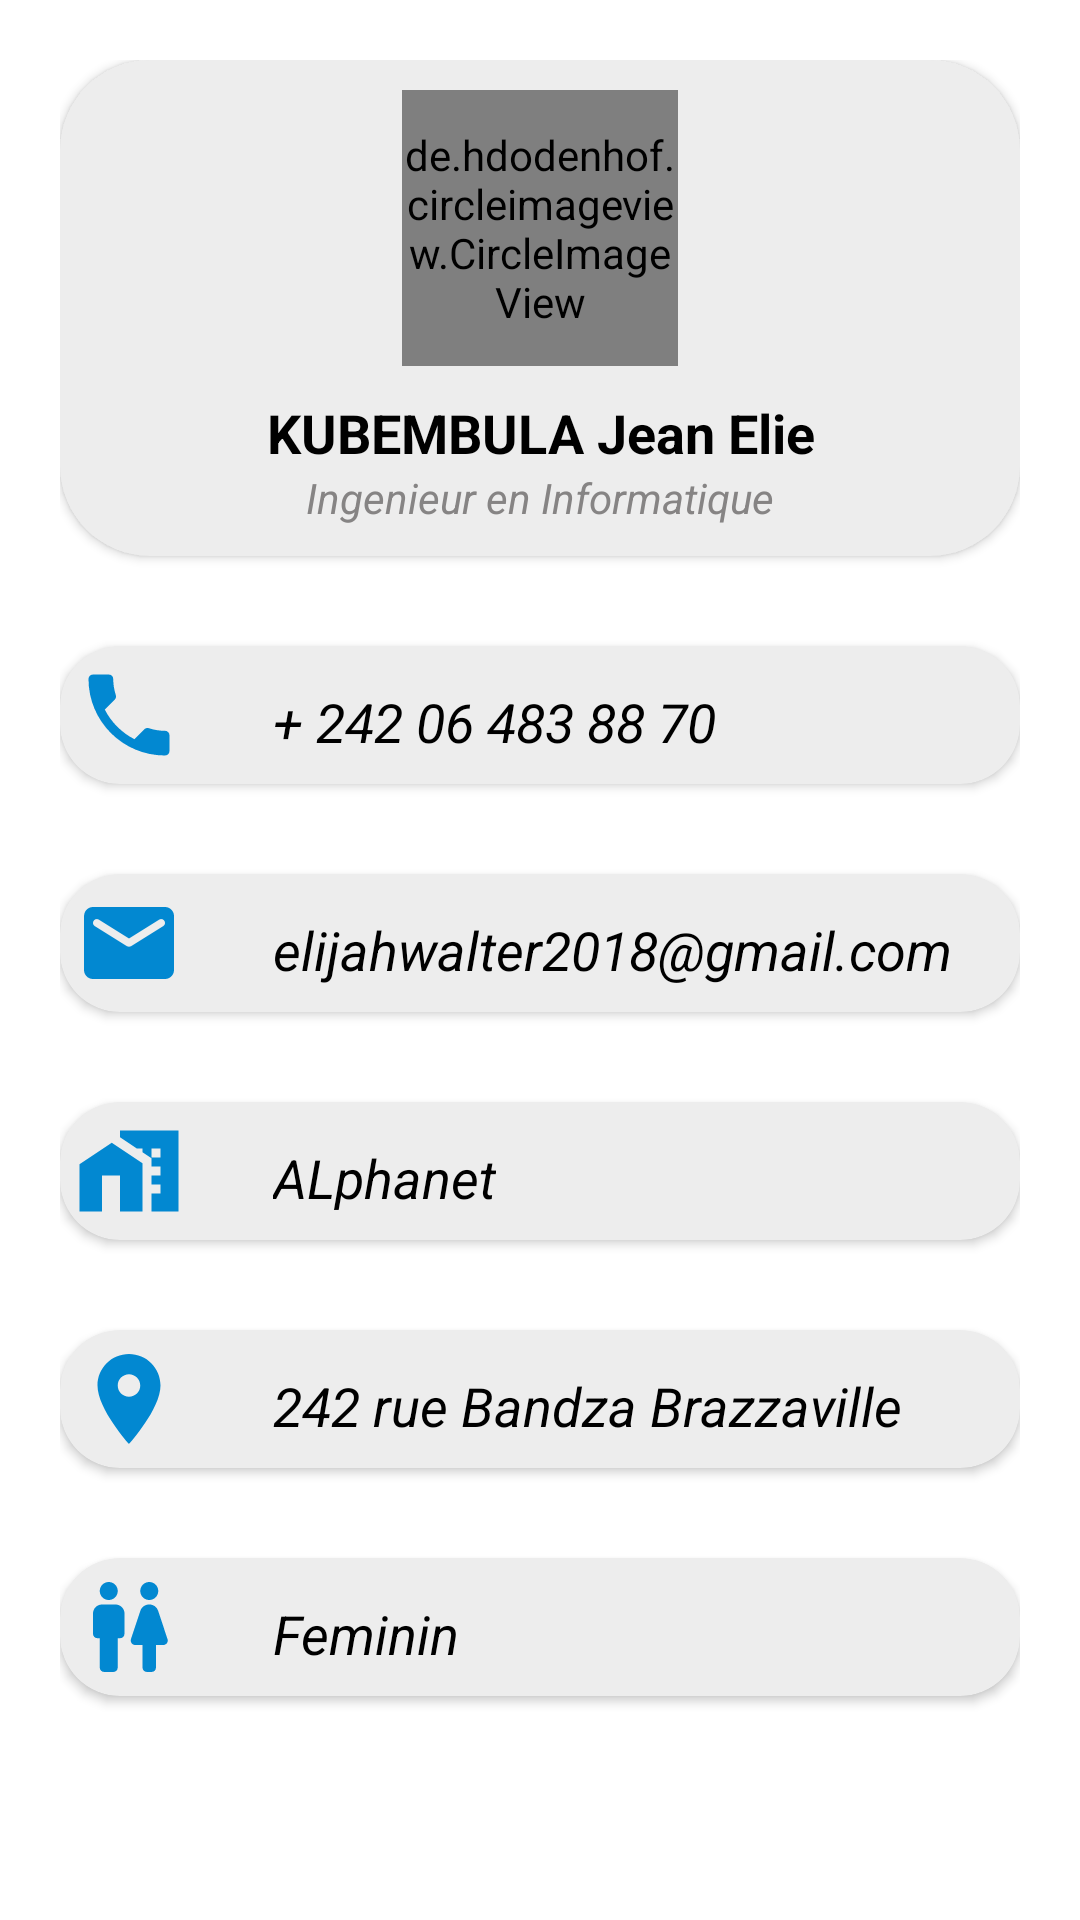

Icon click points for this 1080x1920 phone screenshot, format (x,y):
address: (129,1399)
email: (129,943)
gender: (130,1627)
phone: (129,715)
work: (129,1171)
